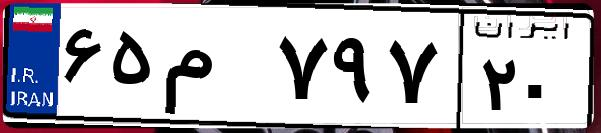0: (525, 38, 570, 115)
2: (475, 38, 525, 113)
5: (110, 28, 158, 98)
6: (57, 26, 110, 100)
7: (270, 28, 330, 110), (385, 28, 445, 110)
9: (330, 28, 385, 110)
م: (158, 20, 270, 120)
